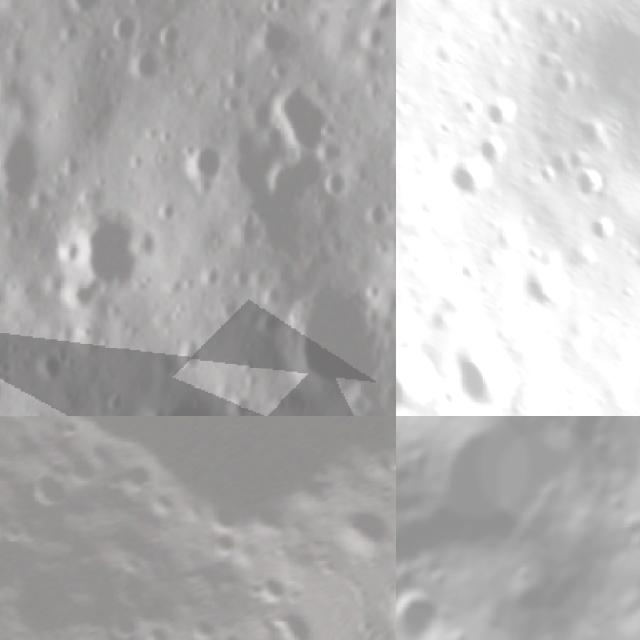crater: (272, 266, 394, 396), (61, 196, 158, 298), (250, 70, 348, 166), (564, 0, 640, 116), (0, 114, 62, 217), (123, 370, 251, 416), (453, 339, 525, 416), (245, 151, 317, 218), (396, 572, 458, 640), (241, 6, 306, 68), (175, 131, 237, 195), (396, 348, 444, 416), (514, 258, 574, 312), (446, 156, 496, 214), (93, 0, 141, 49), (32, 339, 77, 386), (120, 36, 162, 83), (53, 0, 116, 27), (252, 569, 292, 608), (572, 163, 610, 204), (582, 213, 623, 251), (268, 603, 309, 639), (485, 95, 520, 133), (478, 132, 510, 172), (0, 0, 18, 51), (630, 343, 640, 380)
